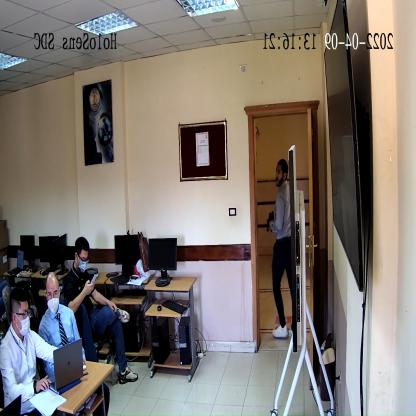handgun: (265, 209, 275, 232)
